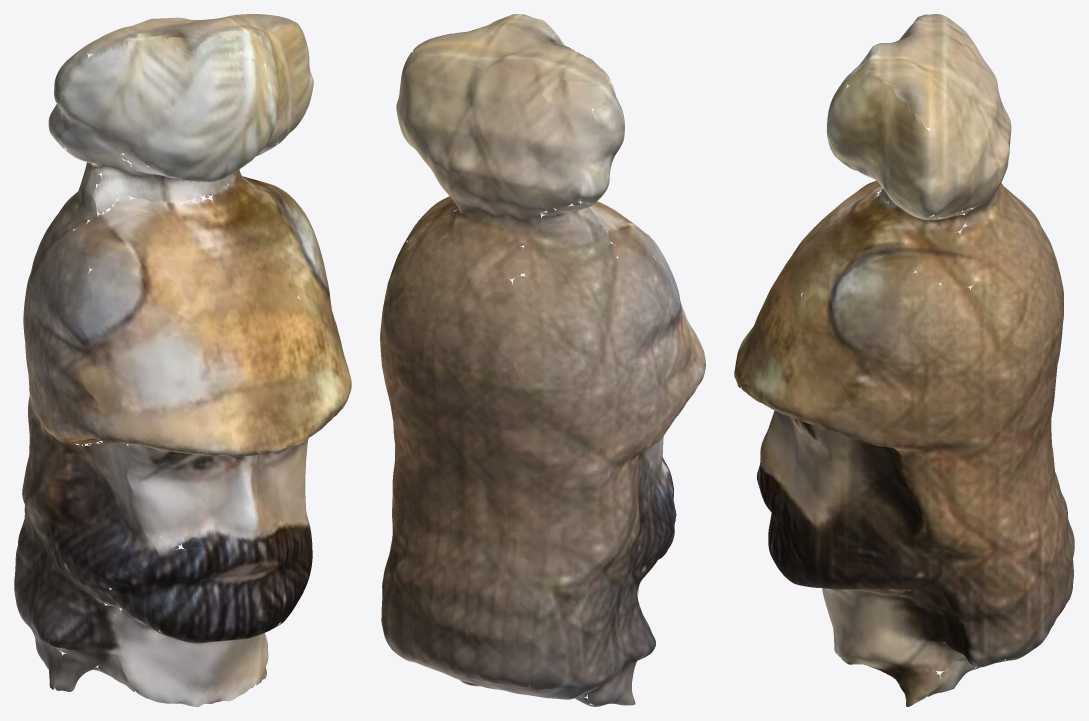
Rendered from defiance.glb.
3 renders of one model, left to right at view 1: azimuth 30°, elevation 25°; view 2: azimuth 150°, elevation 25°; view 3: azimuth 270°, elevation 25°, orthographic. The views are drawn at different scales.
Parts seen in each view (by area): view 1: defiance_Figurehead; view 2: defiance_Figurehead; view 3: defiance_Figurehead.
Boxes of the visible parts, x1,y1,x2,y2 form: defiance_Figurehead: [14, 14, 351, 706]; defiance_Figurehead: [380, 14, 705, 706]; defiance_Figurehead: [734, 14, 1074, 706].
Size of the model in its own units: 1.71 by 4.09 by 1.99.
1 material, 1 textured.
